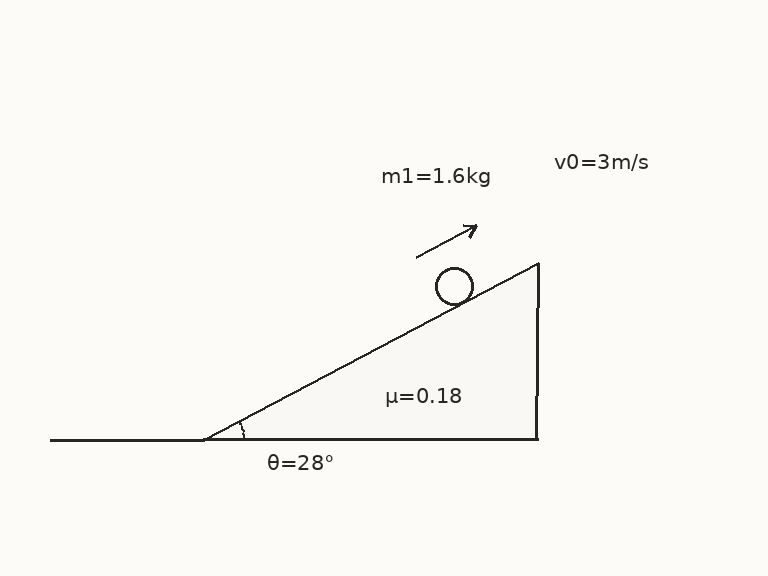ball: (433, 265, 475, 307)
ramp: (202, 261, 540, 442)
